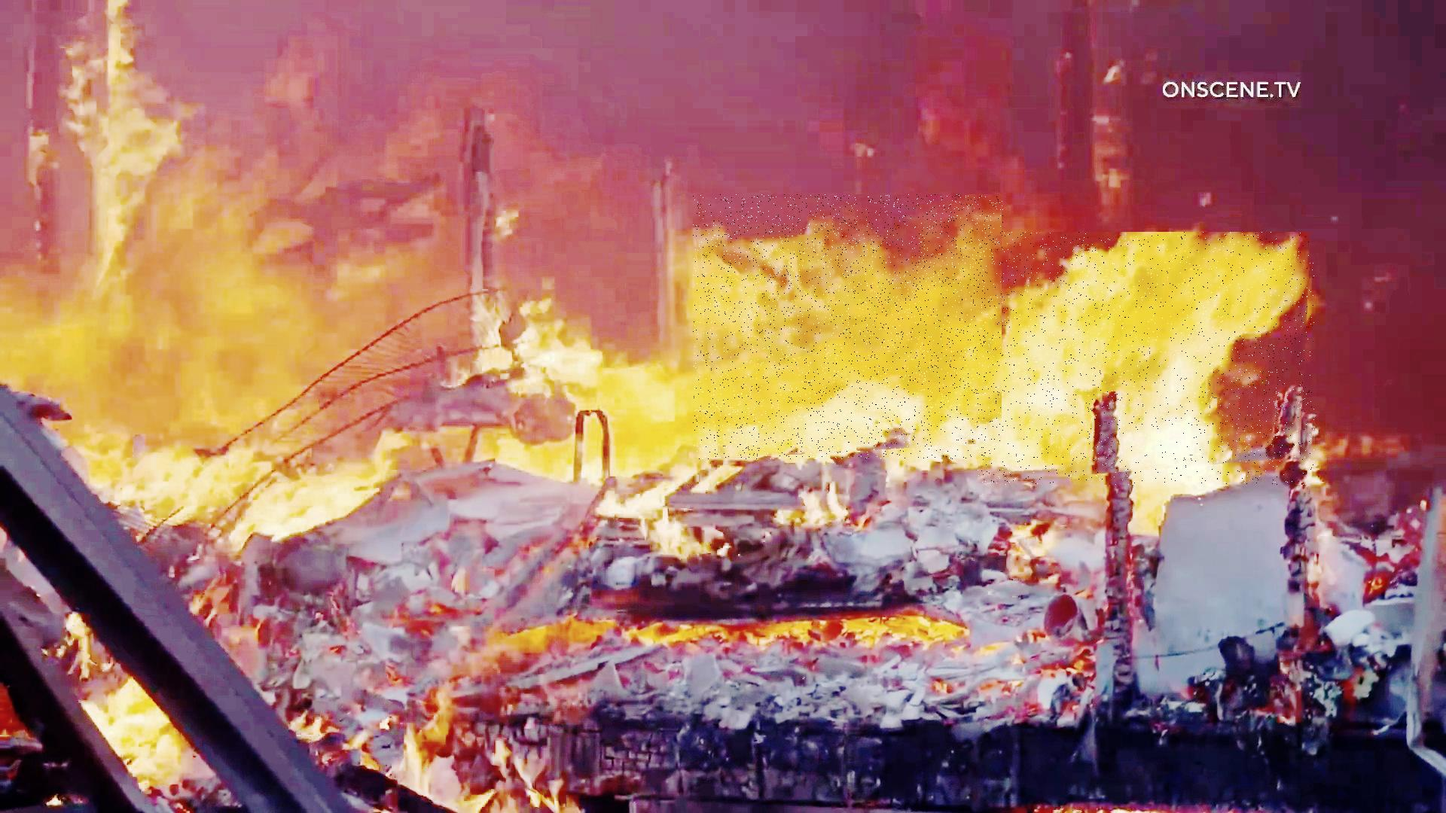fire: (978, 232, 1315, 485), (693, 194, 1004, 459)
